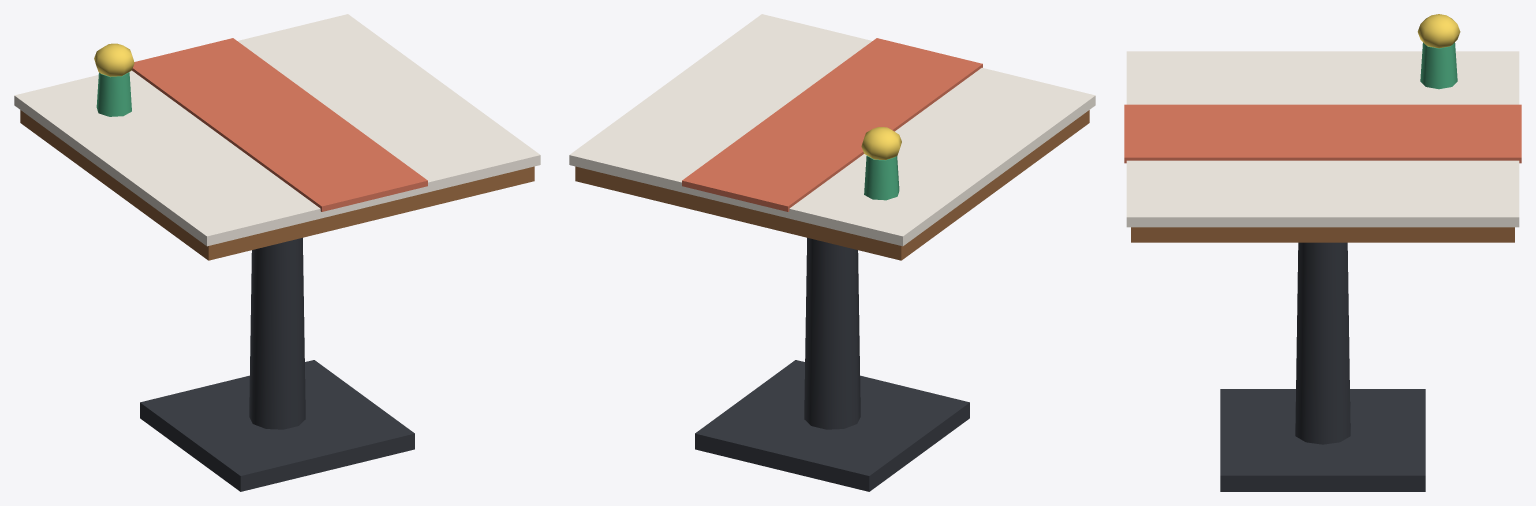
The model's file is restaurant_table.glb.
3 views of the same model, side by side, from view 1: azimuth 30°, elevation 25°; view 2: azimuth 150°, elevation 25°; view 3: azimuth 270°, elevation 25° (orthographic).
Parts seen in each view (by area): view 1: RestaurantTable; view 2: RestaurantTable; view 3: RestaurantTable.
Boxes of the visible parts, bbox=[...] form: RestaurantTable: bbox=[14, 14, 540, 491]; RestaurantTable: bbox=[569, 14, 1095, 491]; RestaurantTable: bbox=[1124, 14, 1521, 491].
Bounding box in the file's own units: 0.88 × 0.938 × 0.89.
